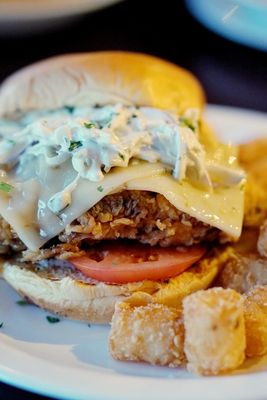soup: (0, 80, 248, 321)
